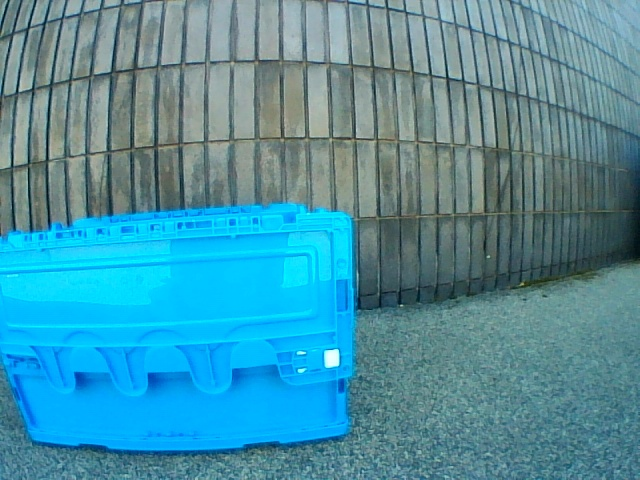blue_box: (1, 203, 354, 452)
